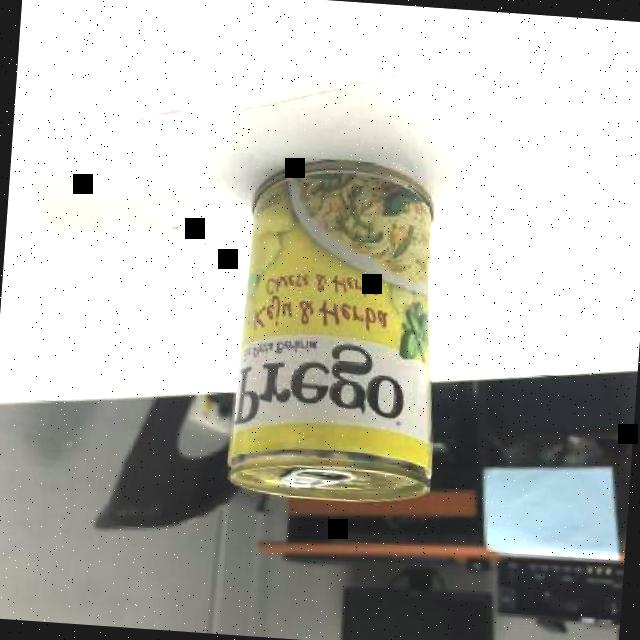can: (230, 154, 456, 506)
